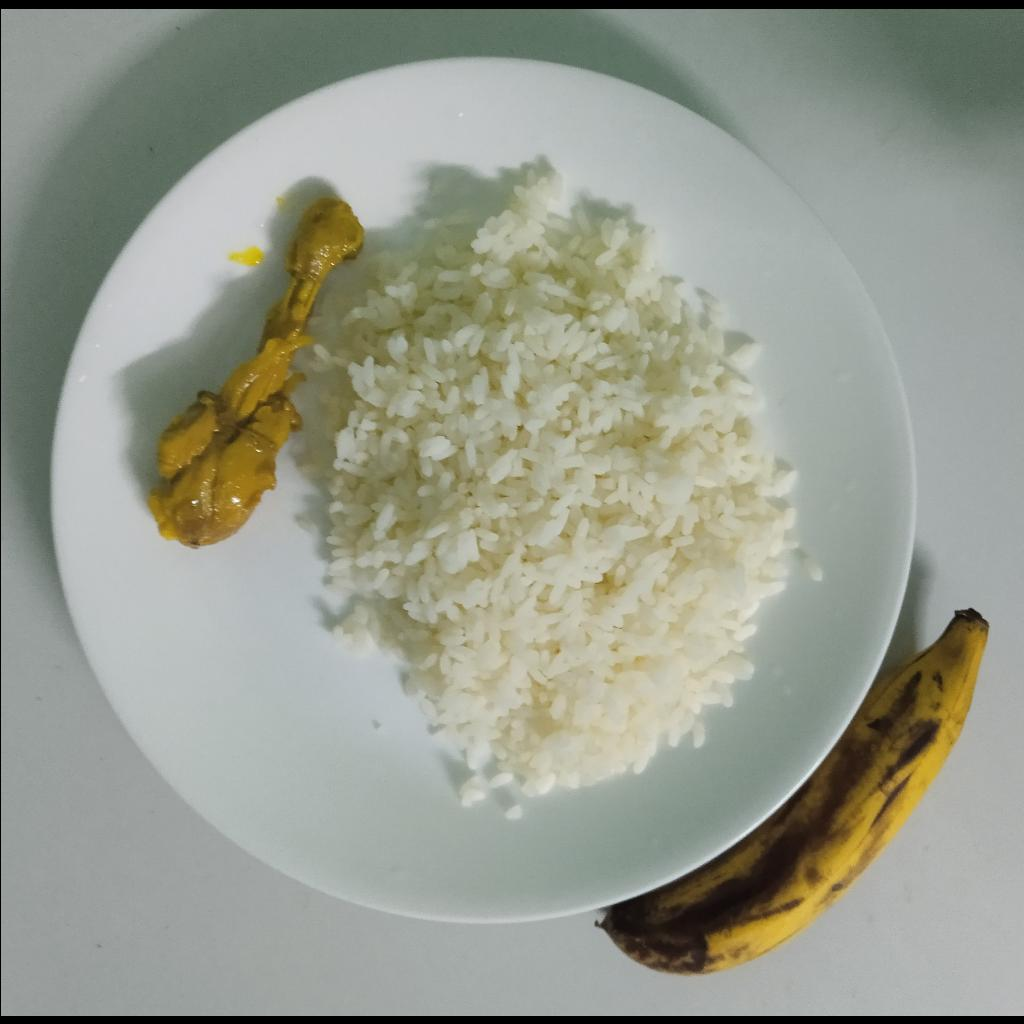banana: (596, 610, 993, 975)
chicken: (143, 195, 356, 550)
rice: (312, 171, 803, 813)
